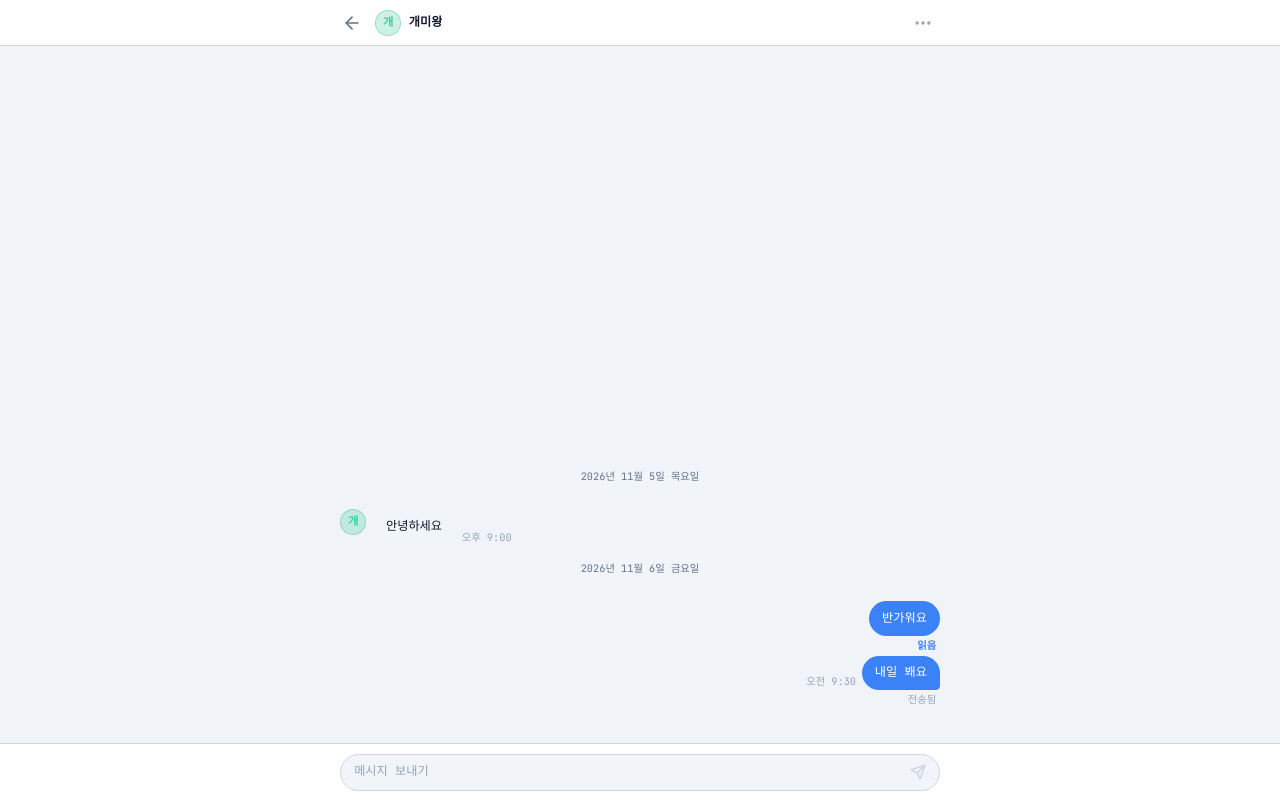
Test: 위 ⋯ — 차단·나가기 › 차단하기 — 확인하면 막고, 방을 다시 받아 입력칸 대신 '차단 풀기'
Expected: the button "안녕하세요" is shown, 372,509 -> 456,546
Click the button named "대화방 메뉴" at (923, 23), box 907,7 -> 938,38
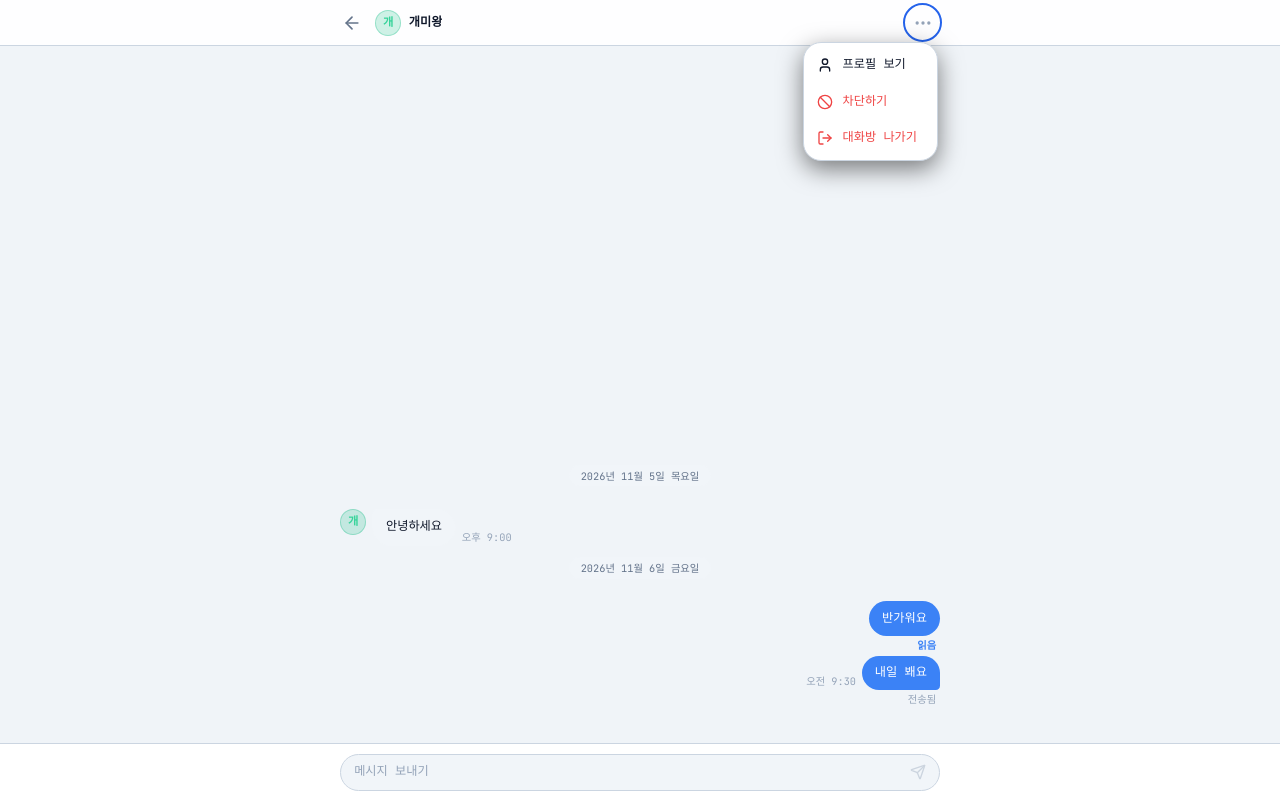
Click the menu item "차단하기" at (871, 102), box 804,83 -> 937,120
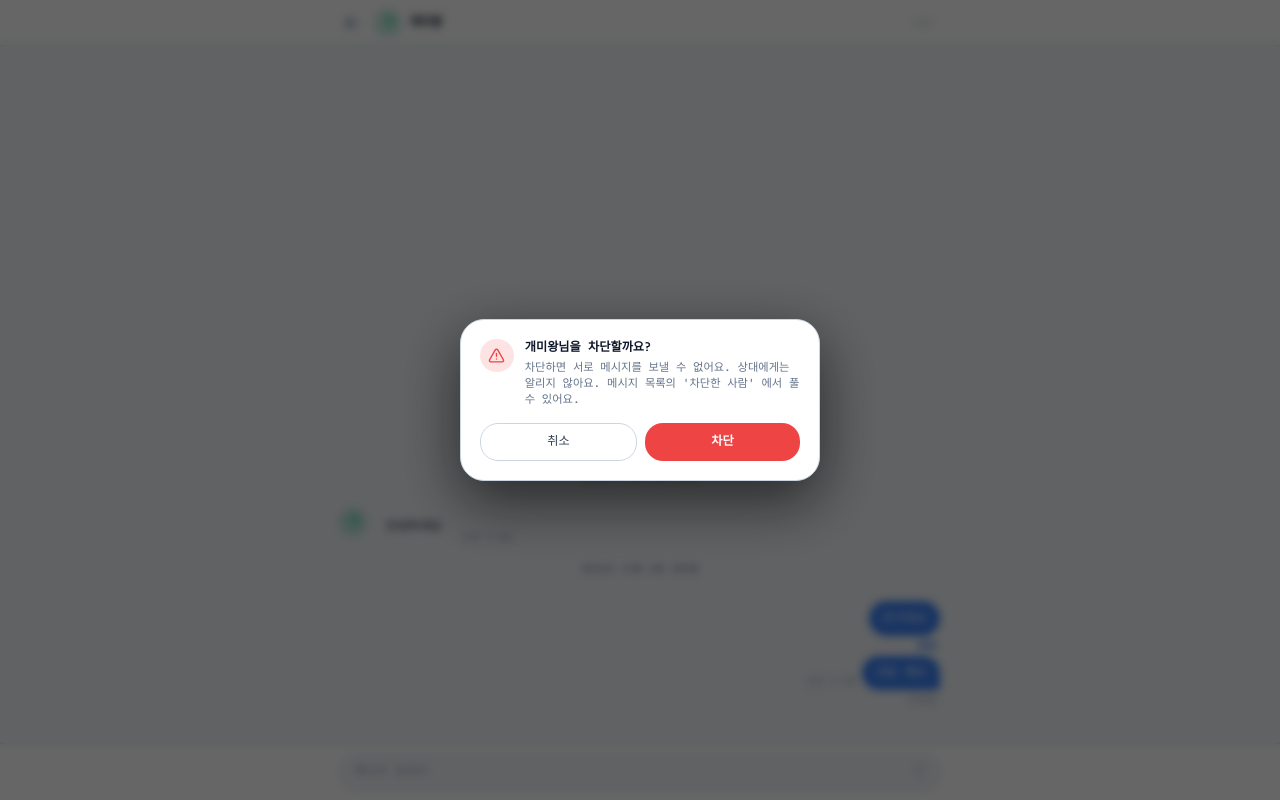
Now the heading "개미왕님을 차단할까요?" is shown, box 525,338 -> 651,354
Click the button "차단" at (723, 442), box 645,423 -> 800,462
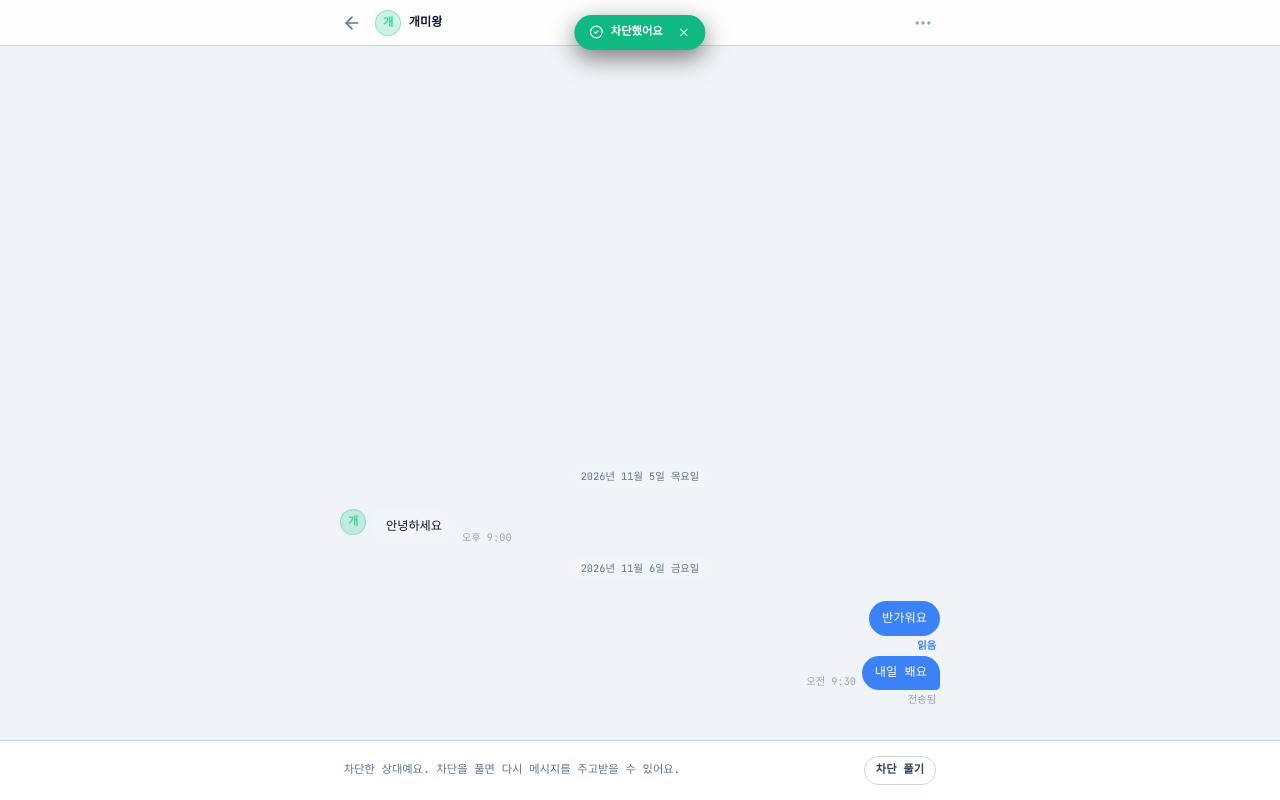
Now the text "차단한 상대예요. 차단을 풀면 다시 메시지를 주고받을 수 있어요." is shown, box 344,762 -> 680,776
Click the button "차단 풀기" at (900, 770), box 864,756 -> 936,785
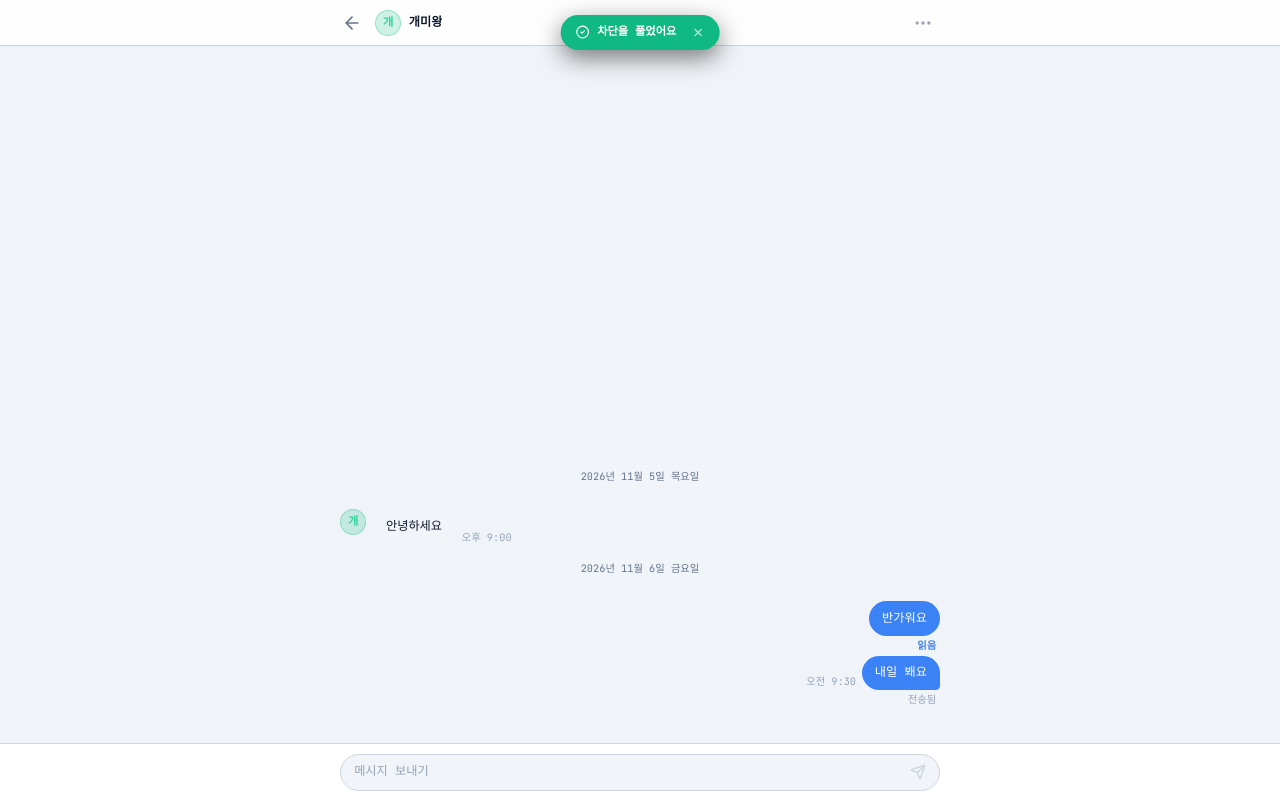
Now the text box named "메시지 쓰기" is shown, box 354,762 -> 902,782
